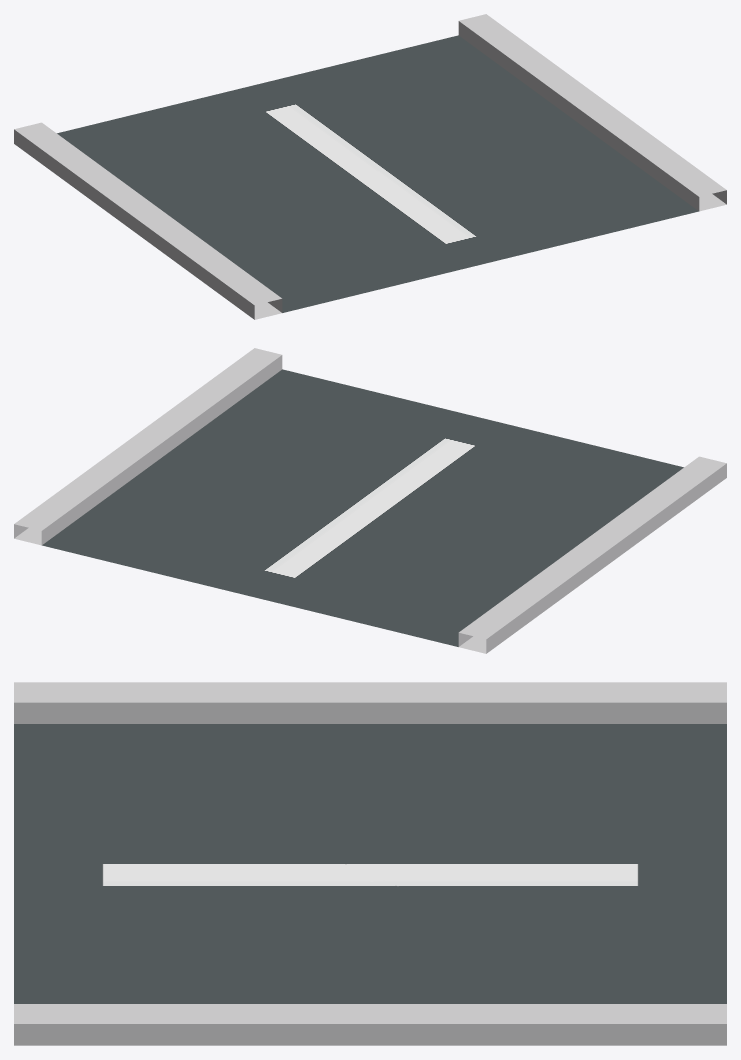
The model's file is road_street.fbx.
3 views of the same model, one above another, from view 1: azimuth 30°, elevation 25°; view 2: azimuth 150°, elevation 25°; view 3: azimuth 270°, elevation 25° (orthographic). The views are drawn at different scales.
Visible parts, largest first — view 1: pPlane1, pPlane2; view 2: pPlane1, pPlane2; view 3: pPlane1, pPlane2.
Boxes of the visible parts, left/top/right/bottom form: pPlane1: left=57, top=35, right=698, bottom=312; pPlane2: left=14, top=14, right=726, bottom=319; pPlane1: left=42, top=369, right=683, bottom=646; pPlane2: left=14, top=348, right=726, bottom=653; pPlane1: left=14, top=724, right=726, bottom=1003; pPlane2: left=14, top=682, right=726, bottom=1045.
Bounding box in the file's own units: 227 × 6.67 × 200.
